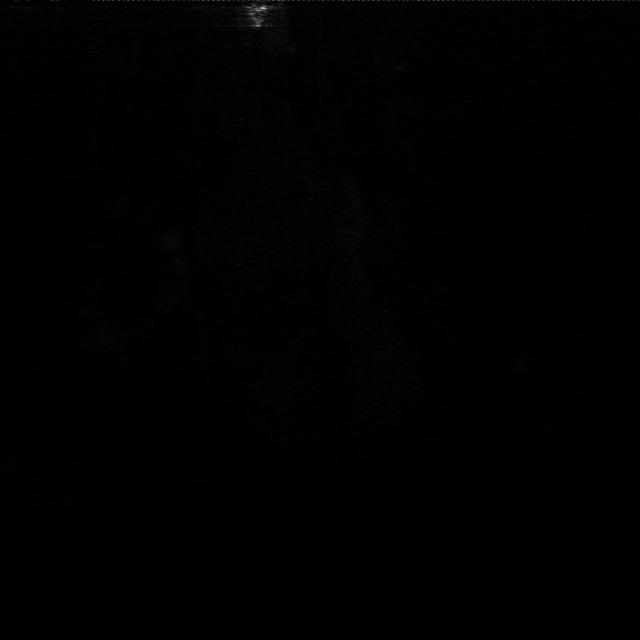rov: (246, 2, 272, 30)
